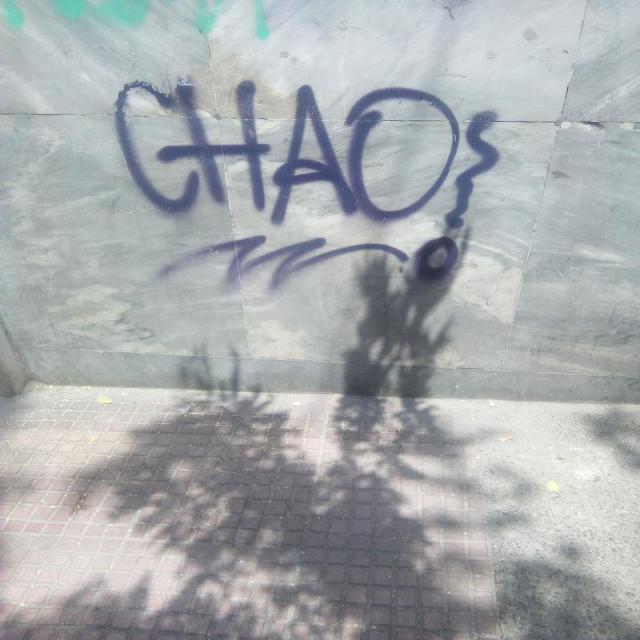nonspitting: (113, 74, 500, 286)
